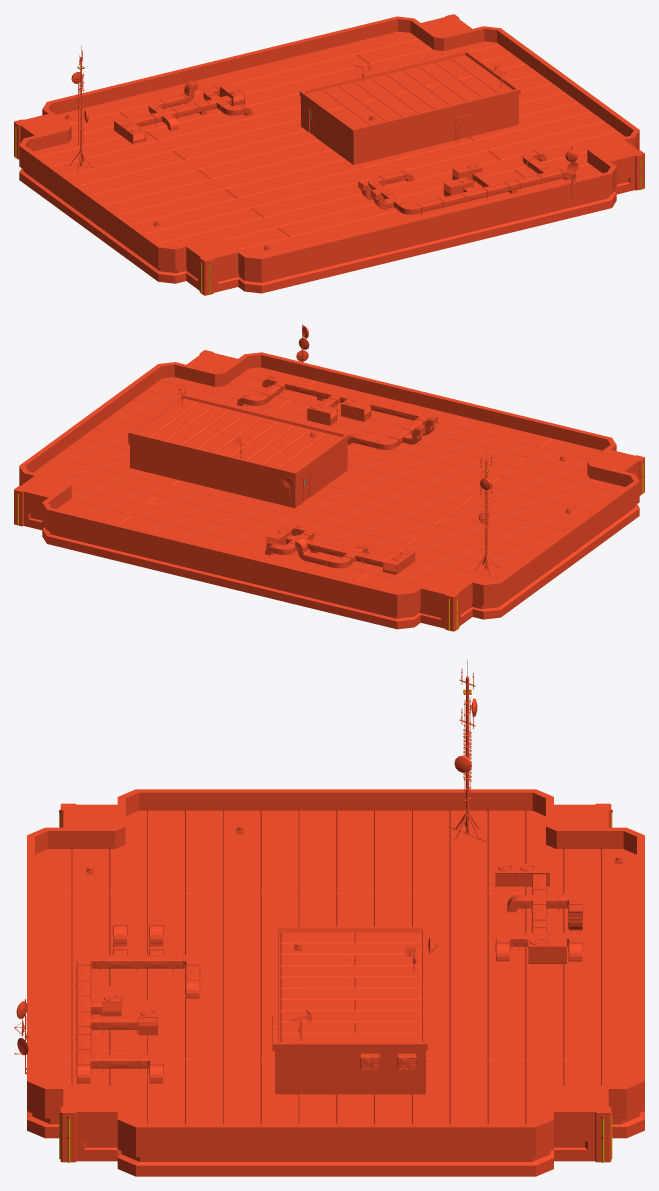
Rendered from SM_Skyscraper_A_Roof_City.fbx.
3 views of the same model, one above another, from view 1: azimuth 30°, elevation 25°; view 2: azimuth 150°, elevation 25°; view 3: azimuth 270°, elevation 25° (orthographic). The views are drawn at different scales.
Visible parts, largest first — view 1: SM_Skyscraper_A_Roof_City; view 2: SM_Skyscraper_A_Roof_City; view 3: SM_Skyscraper_A_Roof_City.
Part boxes in pixels (box(x1,y1,x2,y2)): SM_Skyscraper_A_Roof_City: box(14, 14, 644, 295); SM_Skyscraper_A_Roof_City: box(14, 324, 644, 631); SM_Skyscraper_A_Roof_City: box(14, 660, 644, 1176).
Bounding box in the file's own units: 44 × 12.45 × 34.71.
